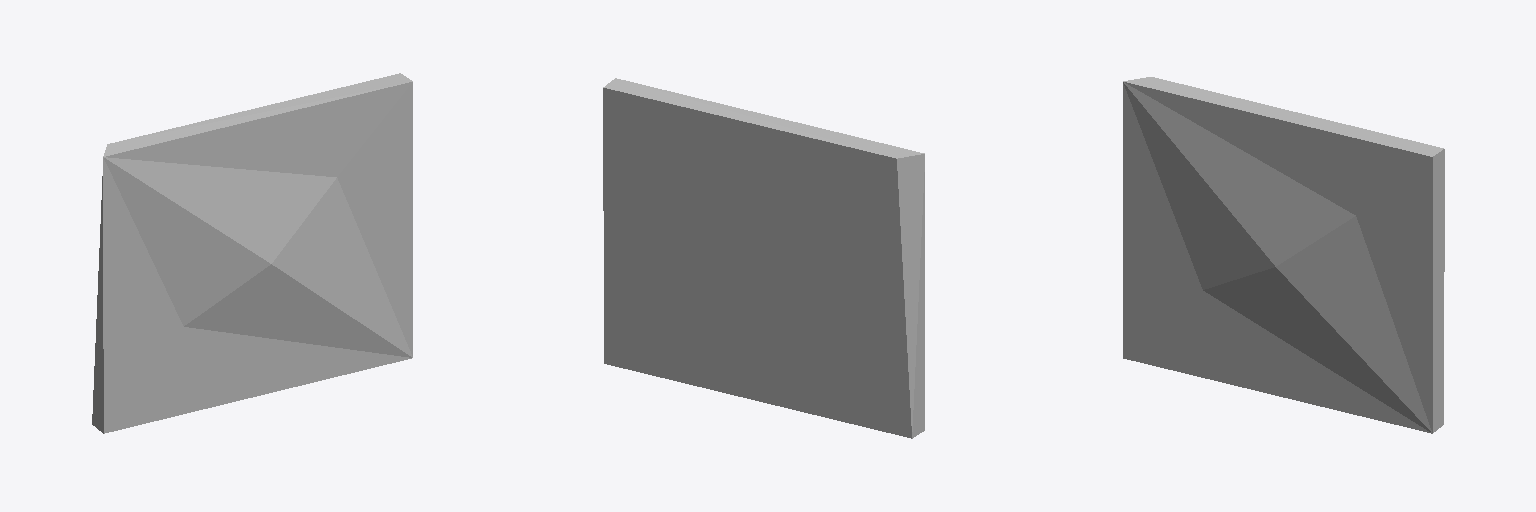
The model's file is sim_ecub_r_foot_rear.obj.
3 renders of one model, left to right at view 1: azimuth 30°, elevation 25°; view 2: azimuth 150°, elevation 25°; view 3: azimuth 330°, elevation 25°, orthographic.
Bounding box in the file's own units: 117 × 99.92 × 12.94.